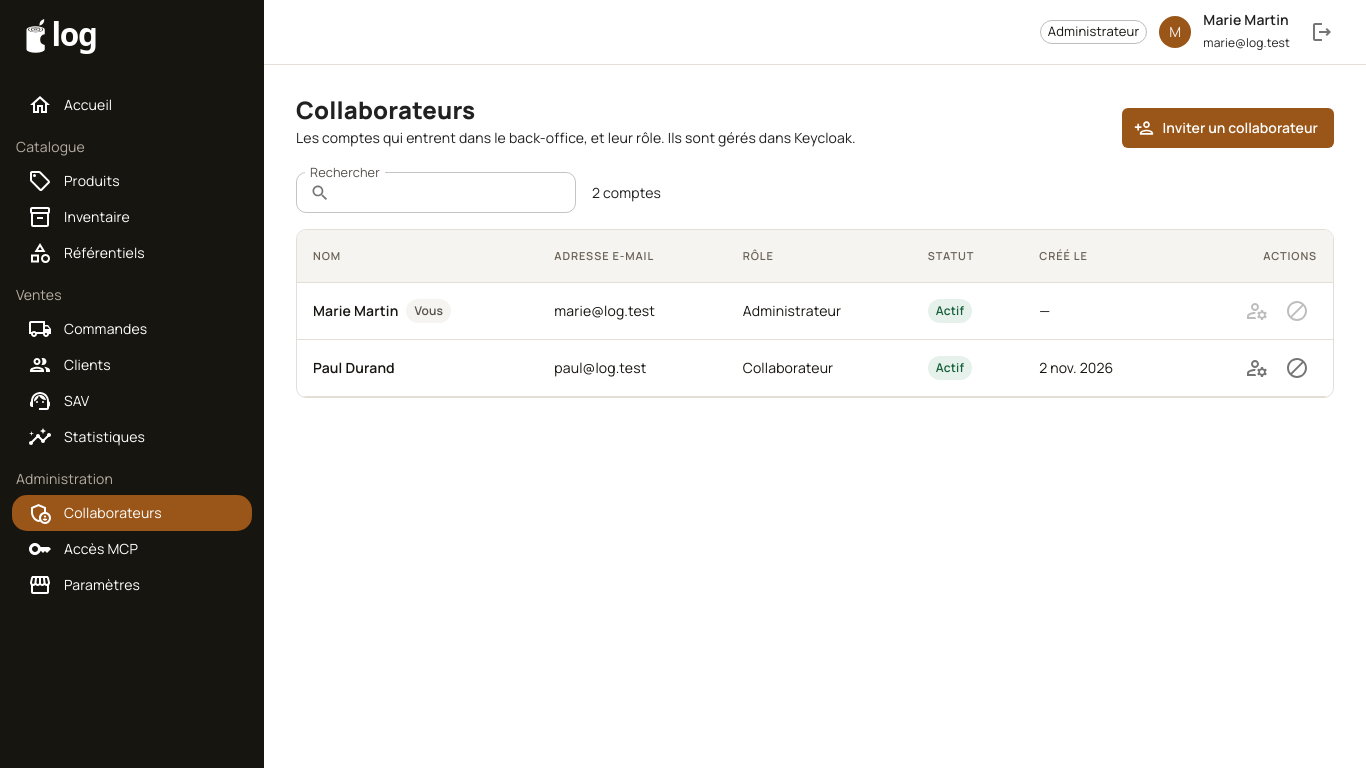
Test: the collaborators (U08) › changes a role and disables an account after asking
Later steps or results of the test are not shown.
Click the button named "Changer le rôle de Paul Durand": point(1257, 368) 1237,348 -> 1277,388
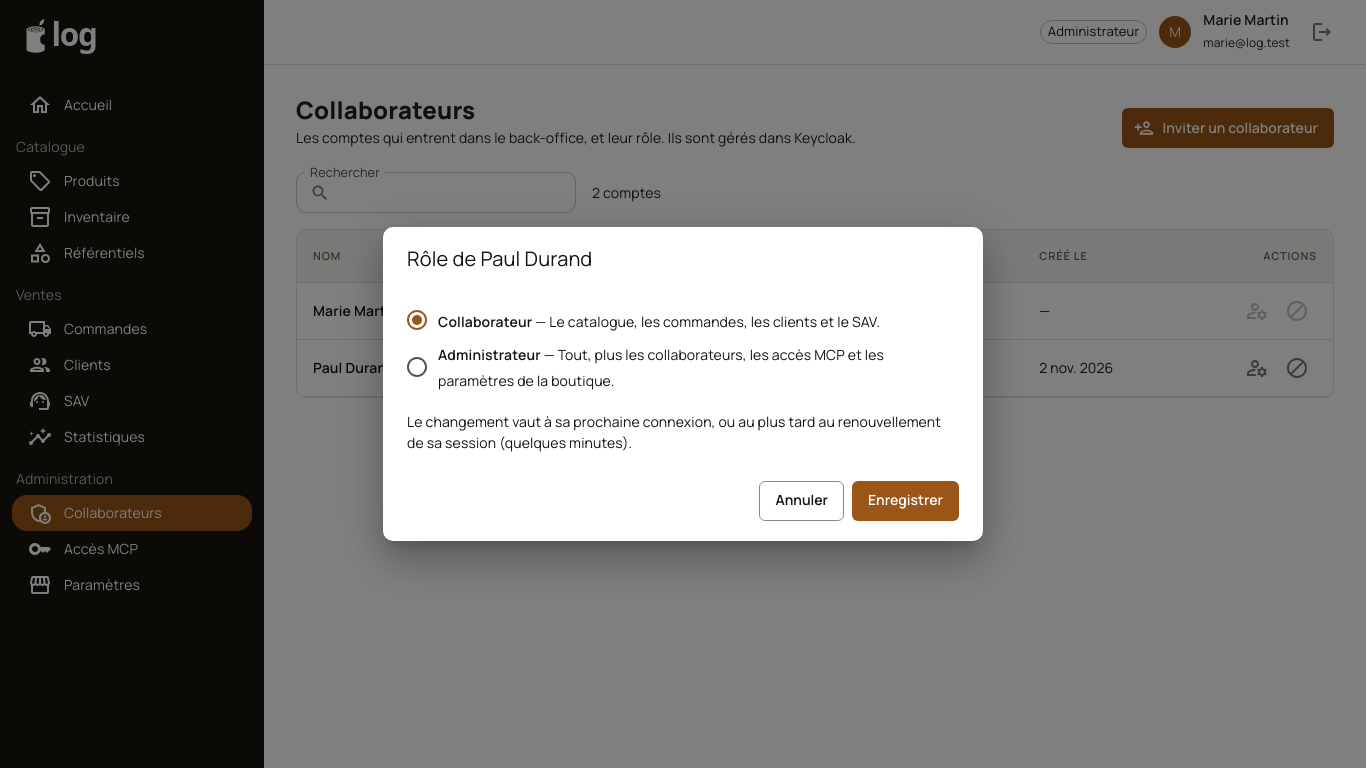
Click the radio button labelled "Administrateur": point(670, 367) 396,342 -> 943,392
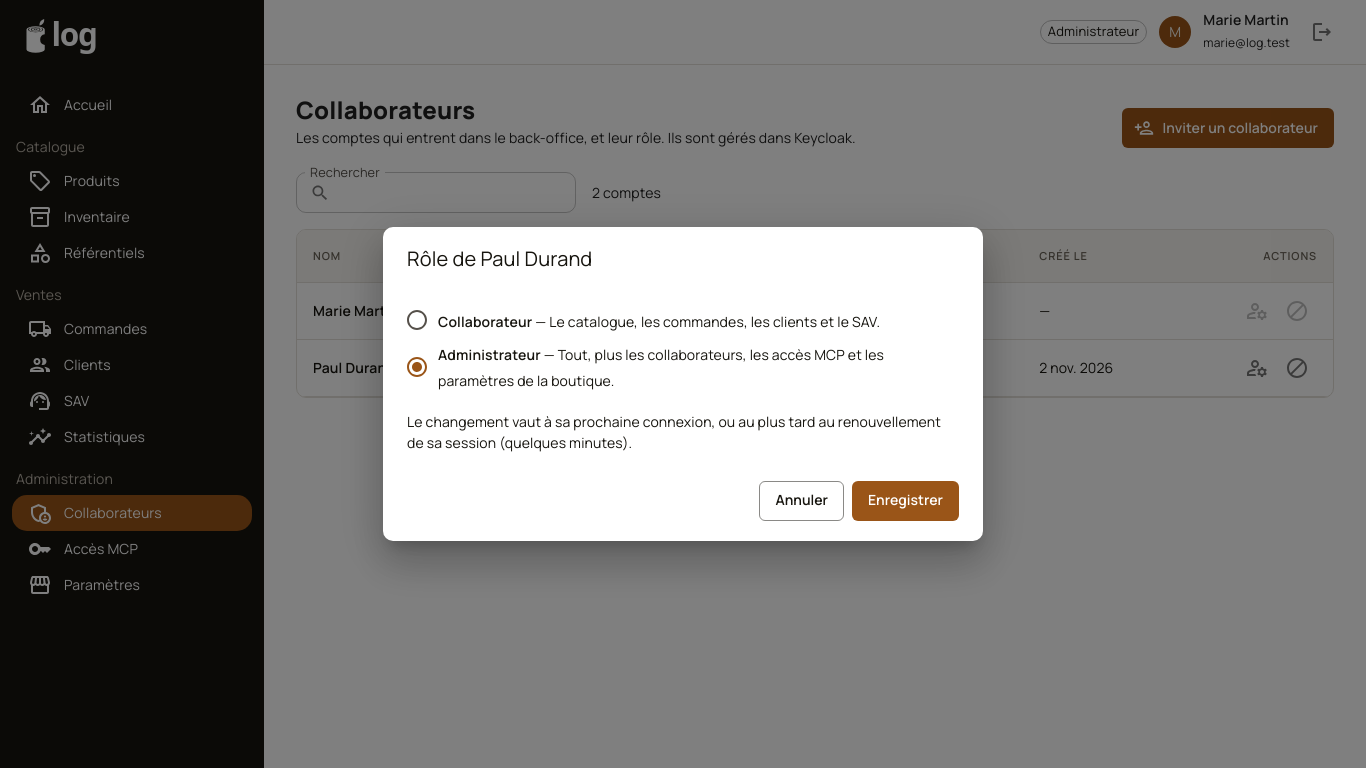
Click the button "Enregistrer": point(906, 500) 852,480 -> 959,520
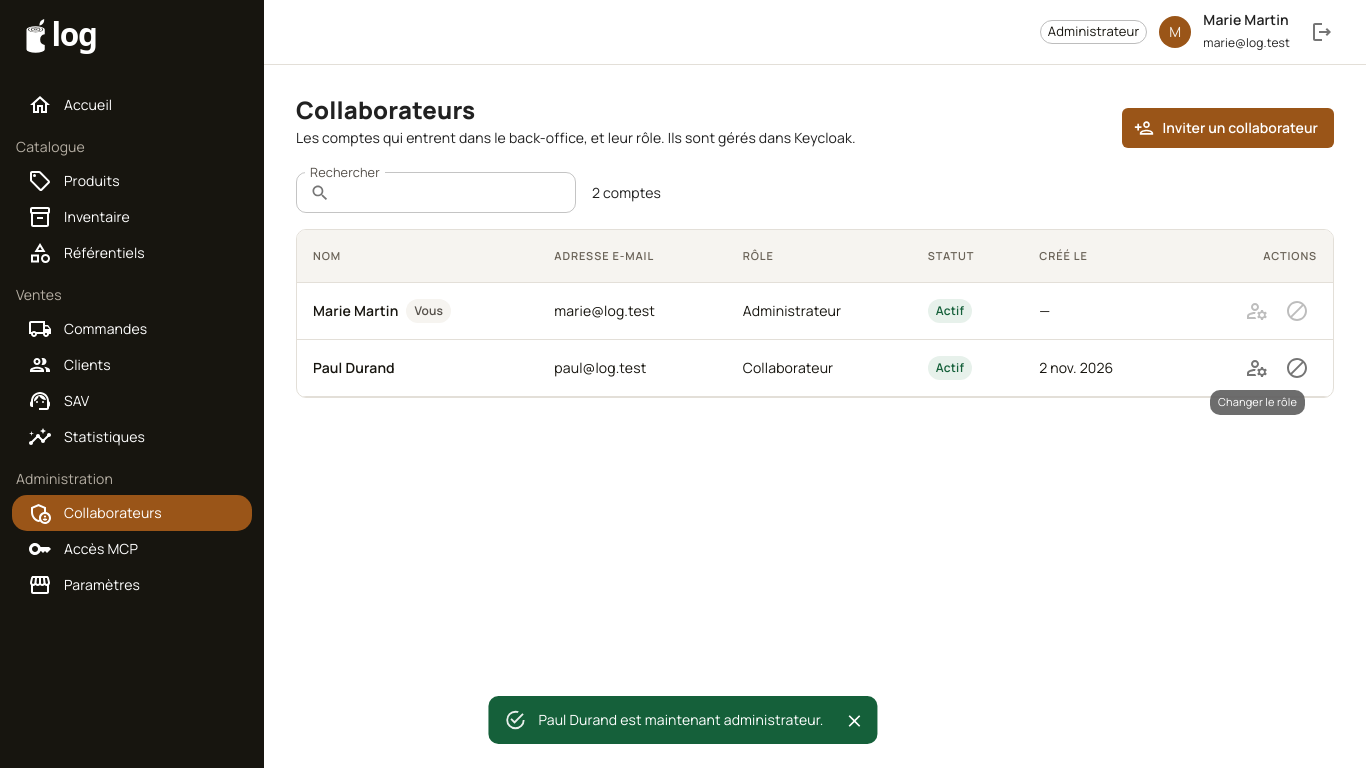
Expected: the text "Paul Durand est maintenant administrateur." is shown, 538,710 -> 824,729
